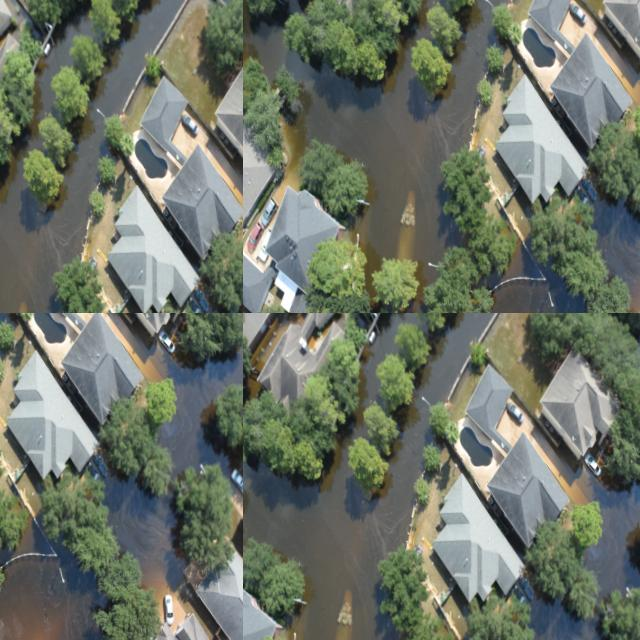fire: (243, 313, 491, 640), (361, 313, 422, 408), (589, 486, 640, 595), (533, 600, 594, 640)
